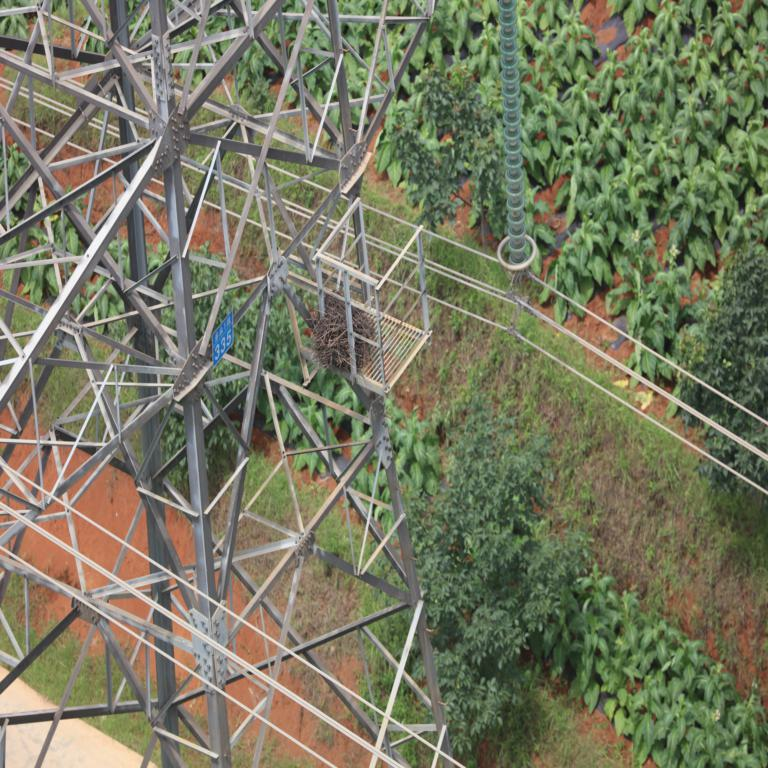nest: (309, 293, 370, 367)
